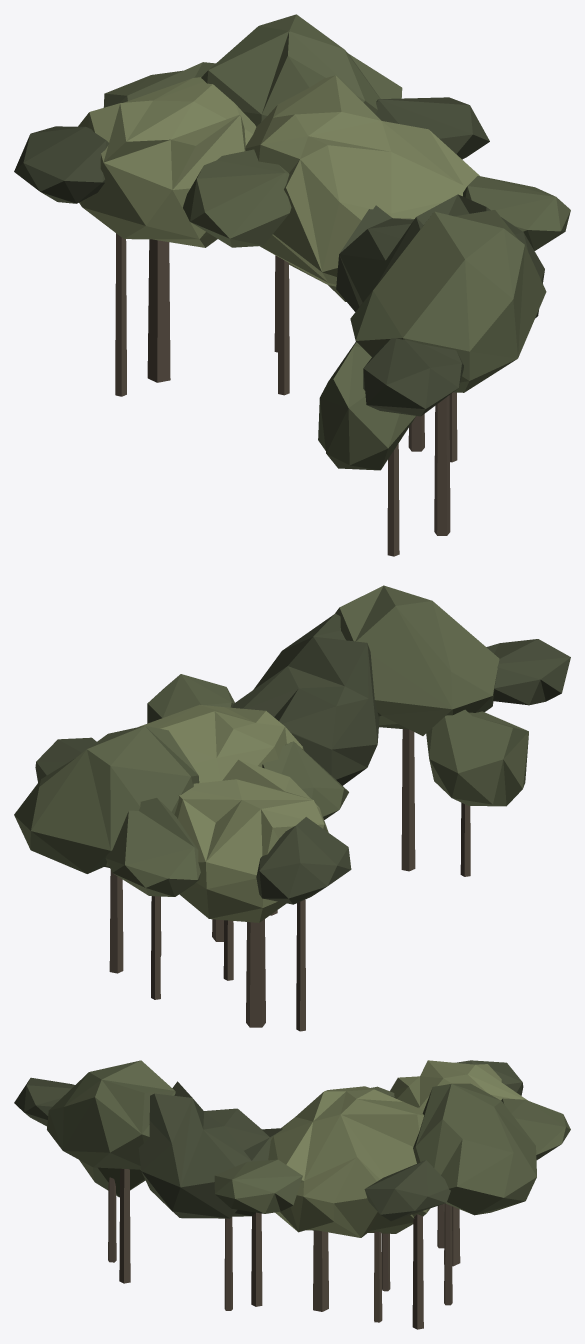
Rendered from Tree_41.gltf.
The picture shows the model from 3 angles, top to bottom: view 1: azimuth 30°, elevation 25°; view 2: azimuth 150°, elevation 25°; view 3: azimuth 270°, elevation 25°; orthographic projection. The views are drawn at different scales.
Visible parts, largest first — view 1: Tree_41; view 2: Tree_41; view 3: Tree_41.
Part boxes in pixels (left/top/right/bottom): Tree_41: left=14, top=14, right=570, bottom=556; Tree_41: left=14, top=585, right=570, bottom=1031; Tree_41: left=14, top=1060, right=570, bottom=1329.
Size of the model in its own units: 0.4893 by 0.3706 by 0.8358.
Materials: 1 (1 with a texture image).
